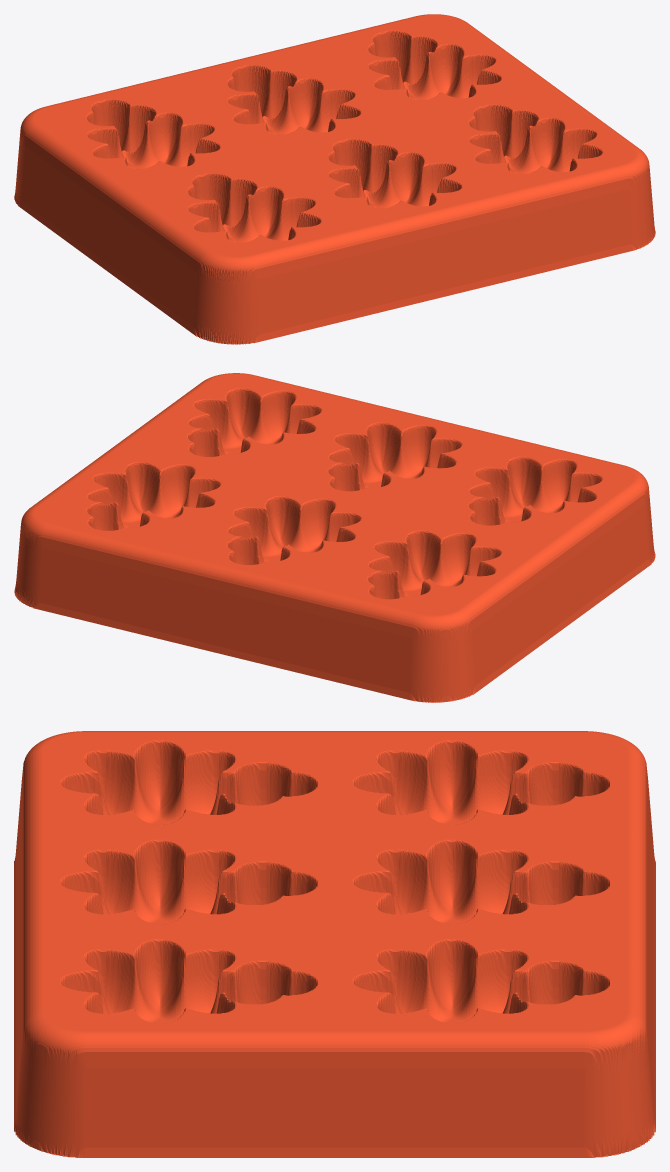
The model's file is mold.glb.
3 renders of one model, top to bottom at view 1: azimuth 30°, elevation 25°; view 2: azimuth 150°, elevation 25°; view 3: azimuth 270°, elevation 25°, orthographic. The views are drawn at different scales.
Parts seen in each view (by area): view 1: geometry_0; view 2: geometry_0; view 3: geometry_0.
Part boxes in pixels (<box>): geometry_0: <box>14,14,655,344</box>; geometry_0: <box>14,373,655,702</box>; geometry_0: <box>14,731,655,1157</box>.
Bounding box in the file's own units: 0.096 × 0.0159 × 0.0808.
